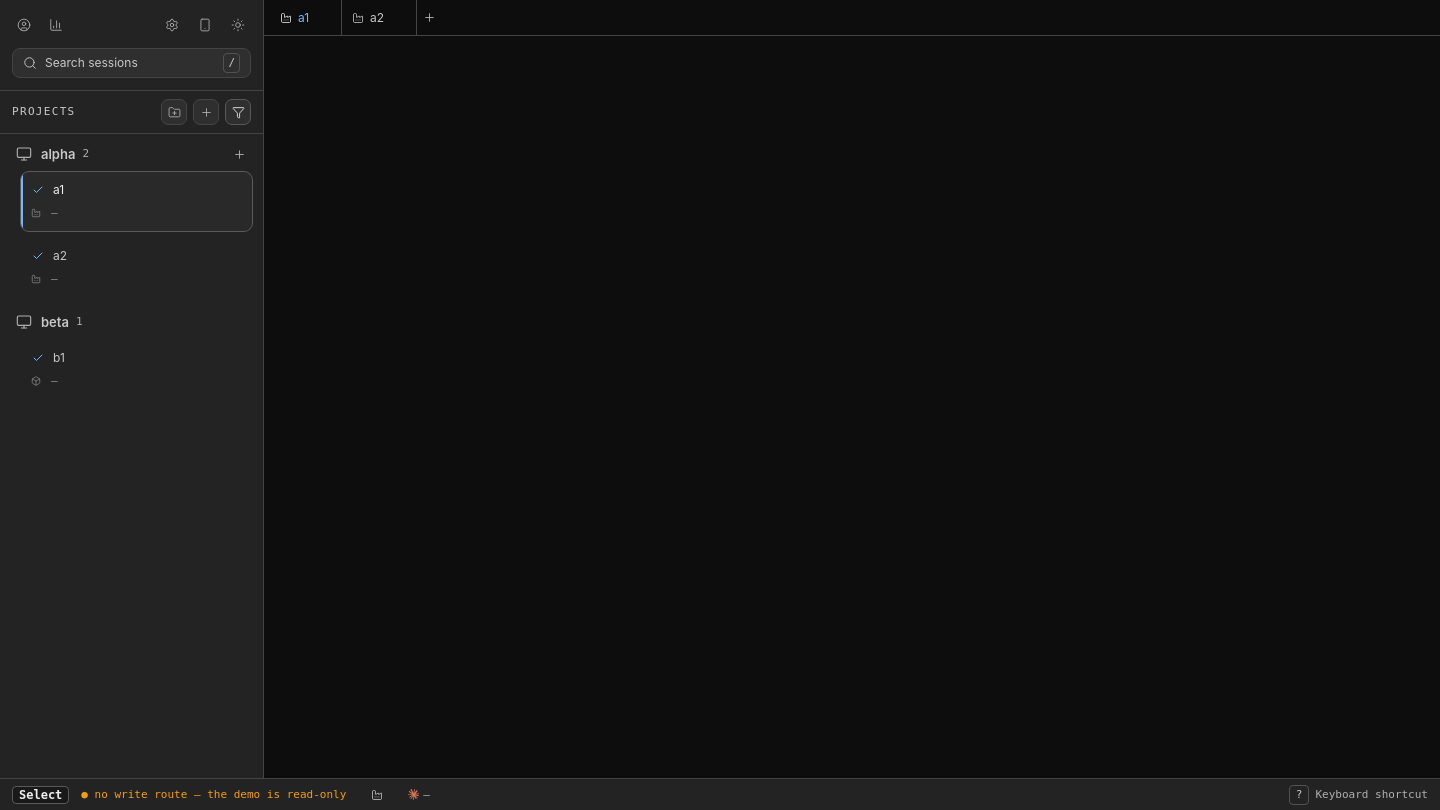
it: the sidebar › pins settings at the bottom, and it opens the overlay
Click the button named "settings" at [172, 25], box [159,12,185,38]
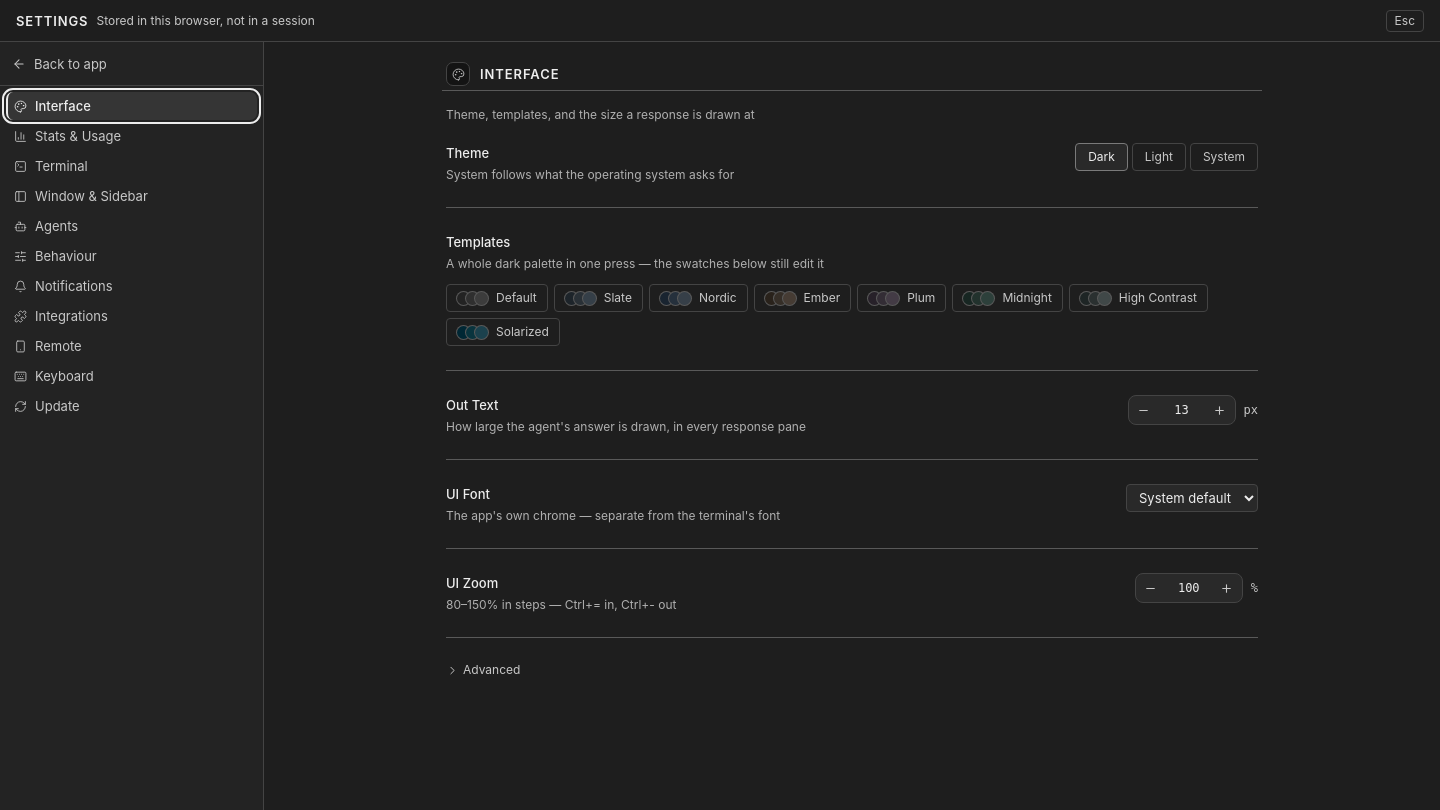
Now the dialog is shown
